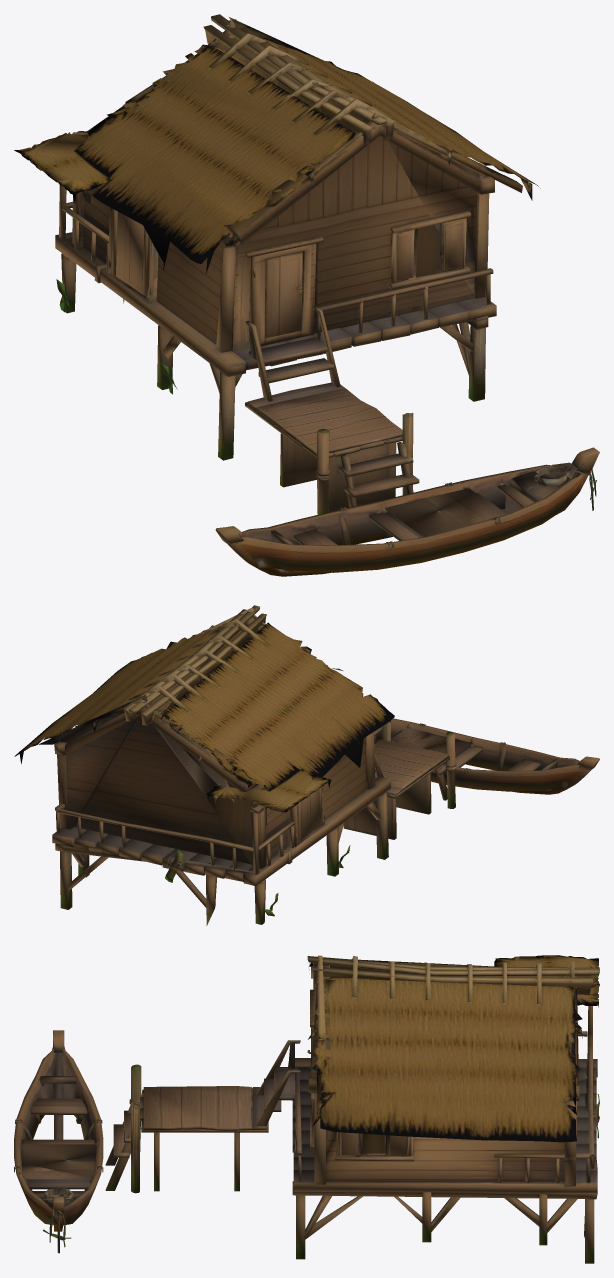
The model's file is 019e3eed-f9e0-7787-8615-ef83d64c32fc.glb.
3 renders of one model, top to bottom at view 1: azimuth 30°, elevation 25°; view 2: azimuth 150°, elevation 25°; view 3: azimuth 270°, elevation 25°, orthographic. The views are drawn at different scales.
Parts seen in each view (by area): view 1: tripo_node_4ef599e1-33f6-47d6-8cf3-6311dcfd3546; view 2: tripo_node_4ef599e1-33f6-47d6-8cf3-6311dcfd3546; view 3: tripo_node_4ef599e1-33f6-47d6-8cf3-6311dcfd3546.
Part boxes in pixels (x1,y1,x2,y2): tripo_node_4ef599e1-33f6-47d6-8cf3-6311dcfd3546: (14, 14, 599, 576); tripo_node_4ef599e1-33f6-47d6-8cf3-6311dcfd3546: (14, 605, 599, 925); tripo_node_4ef599e1-33f6-47d6-8cf3-6311dcfd3546: (14, 955, 599, 1263).
Bounding box in the file's own units: 0.8262 × 0.5098 × 0.998.
Materials: 1 (1 with a texture image).
